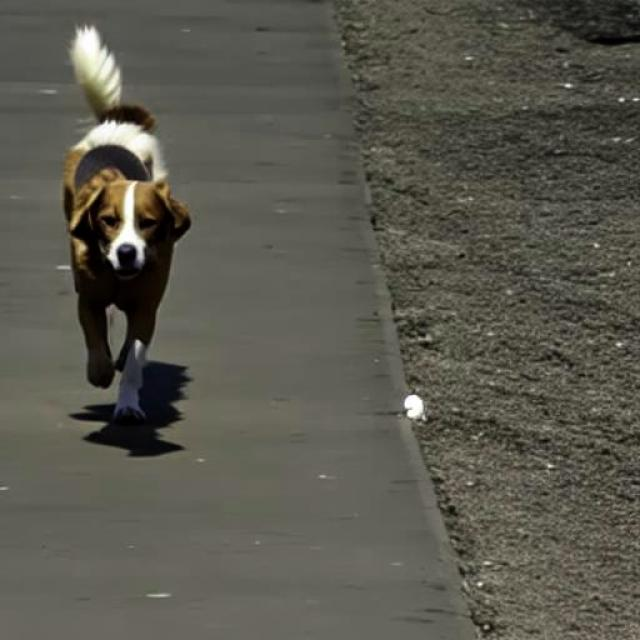Dog: (64, 24, 192, 420)
